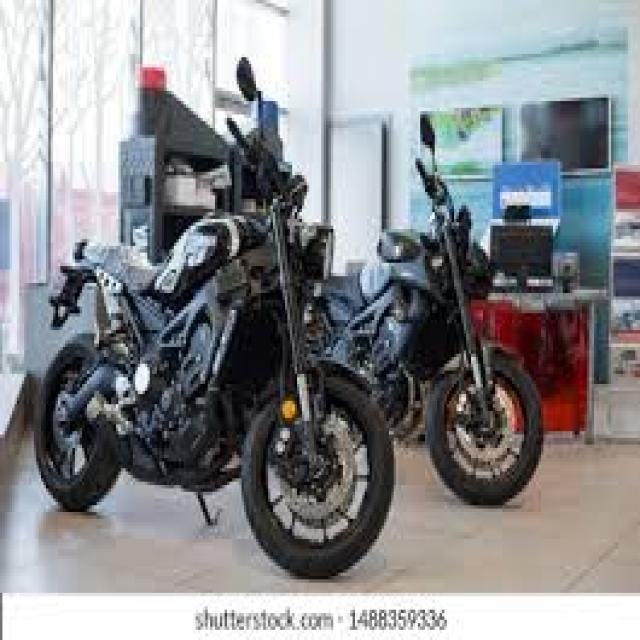bike: (35, 57, 395, 580), (309, 112, 547, 510)
